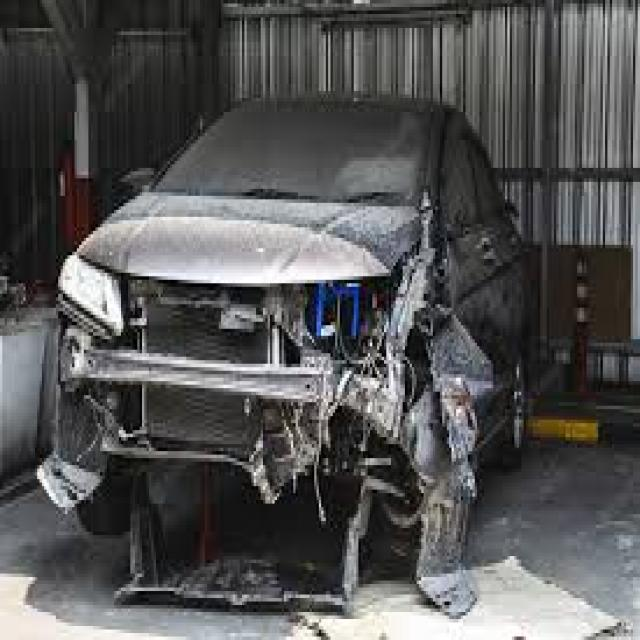severe: (51, 190, 547, 612)
